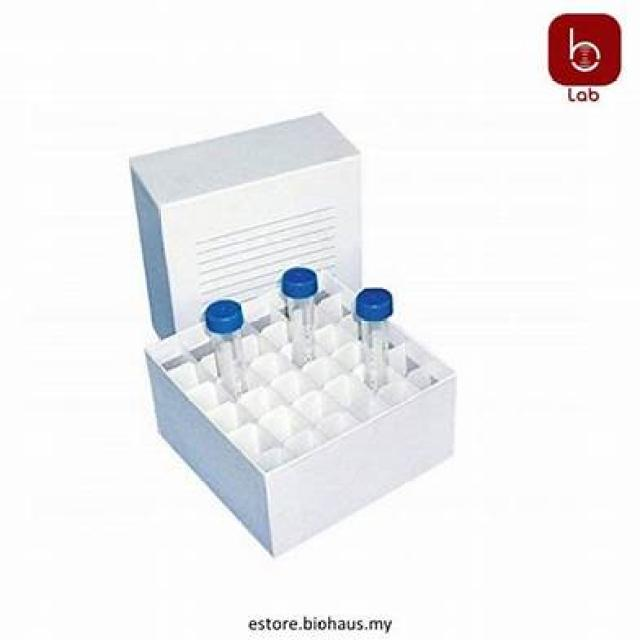vial: (352, 286, 404, 322), (282, 264, 318, 294), (196, 306, 252, 324)
